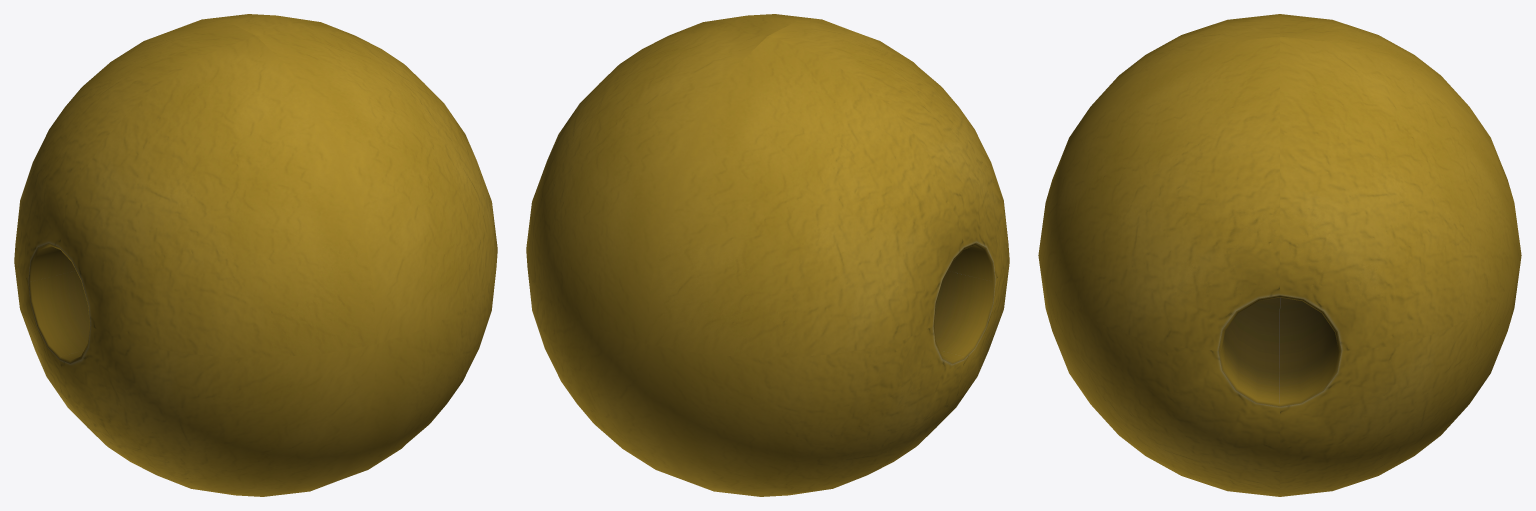
The model's file is kraal_Model_Yellow.fbx.
3 views of the same model, side by side, from view 1: azimuth 30°, elevation 25°; view 2: azimuth 150°, elevation 25°; view 3: azimuth 270°, elevation 25° (orthographic).
Parts seen in each view (by area): view 1: Sphere_1; view 2: Sphere_1; view 3: Sphere_1.
Boxes of the visible parts, bbox=[...] form: Sphere_1: bbox=[14, 14, 497, 496]; Sphere_1: bbox=[526, 14, 1009, 496]; Sphere_1: bbox=[1038, 14, 1521, 496].
Bounding box in the file's own units: 187 × 200 × 200.
1 material, 1 textured.
